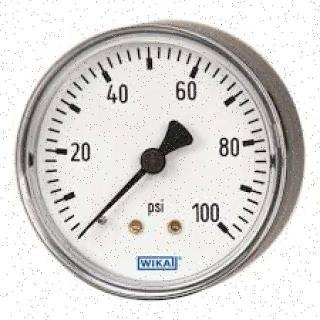gauge: (5, 5, 308, 313), (192, 200, 236, 244), (71, 216, 101, 244), (139, 146, 166, 174), (74, 228, 88, 242)
